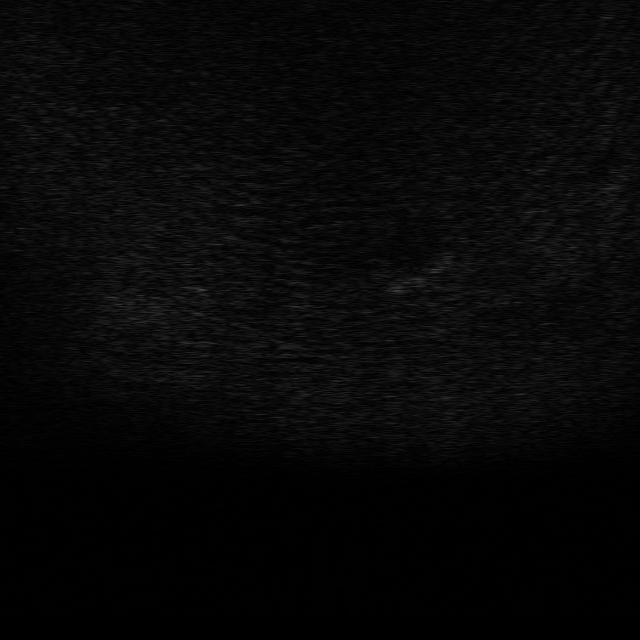plane: (373, 261, 448, 297)
